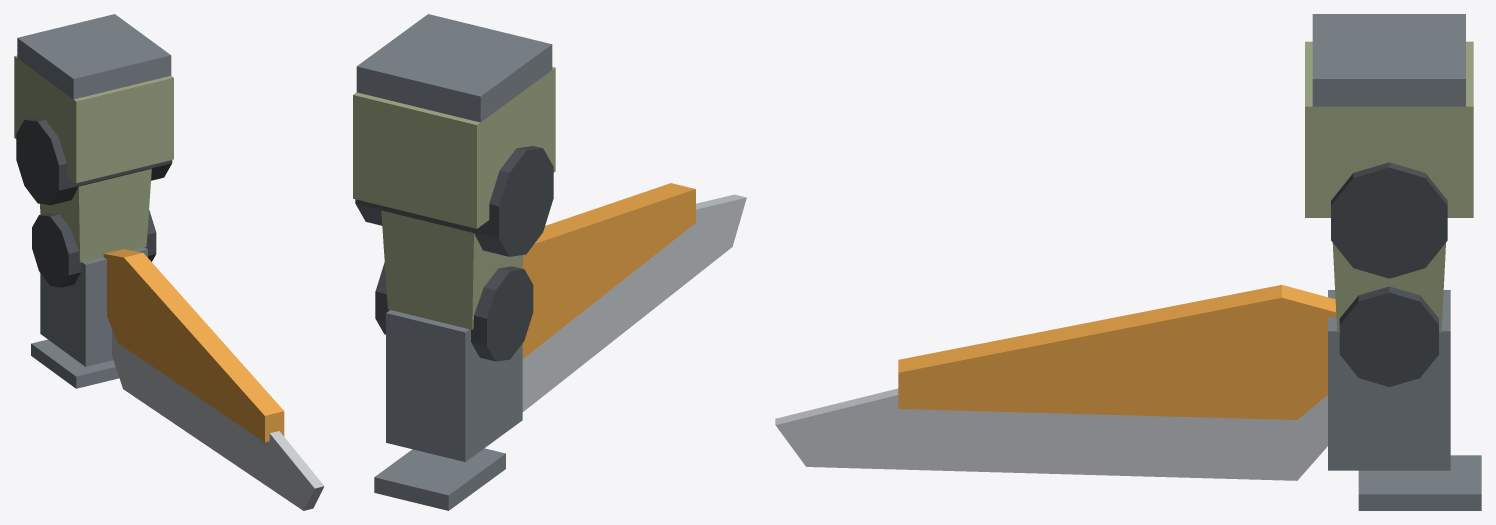
The model's file is mod-line-mech-left-arm-26855.glb.
The picture shows the model from 3 angles, left to right: view 1: azimuth 30°, elevation 25°; view 2: azimuth 150°, elevation 25°; view 3: azimuth 270°, elevation 25°; orthographic projection. The views are drawn at different scales.
Size of the model in its own units: 2.44 by 6.74 by 9.7.
